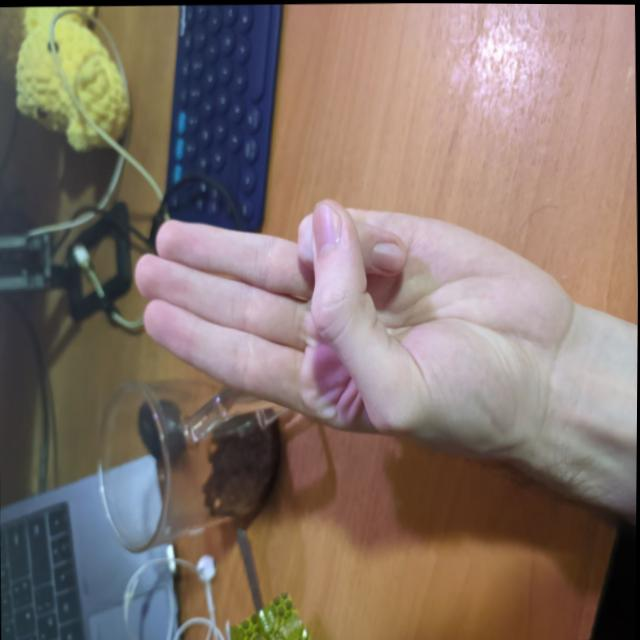sh: (121, 181, 582, 452)
